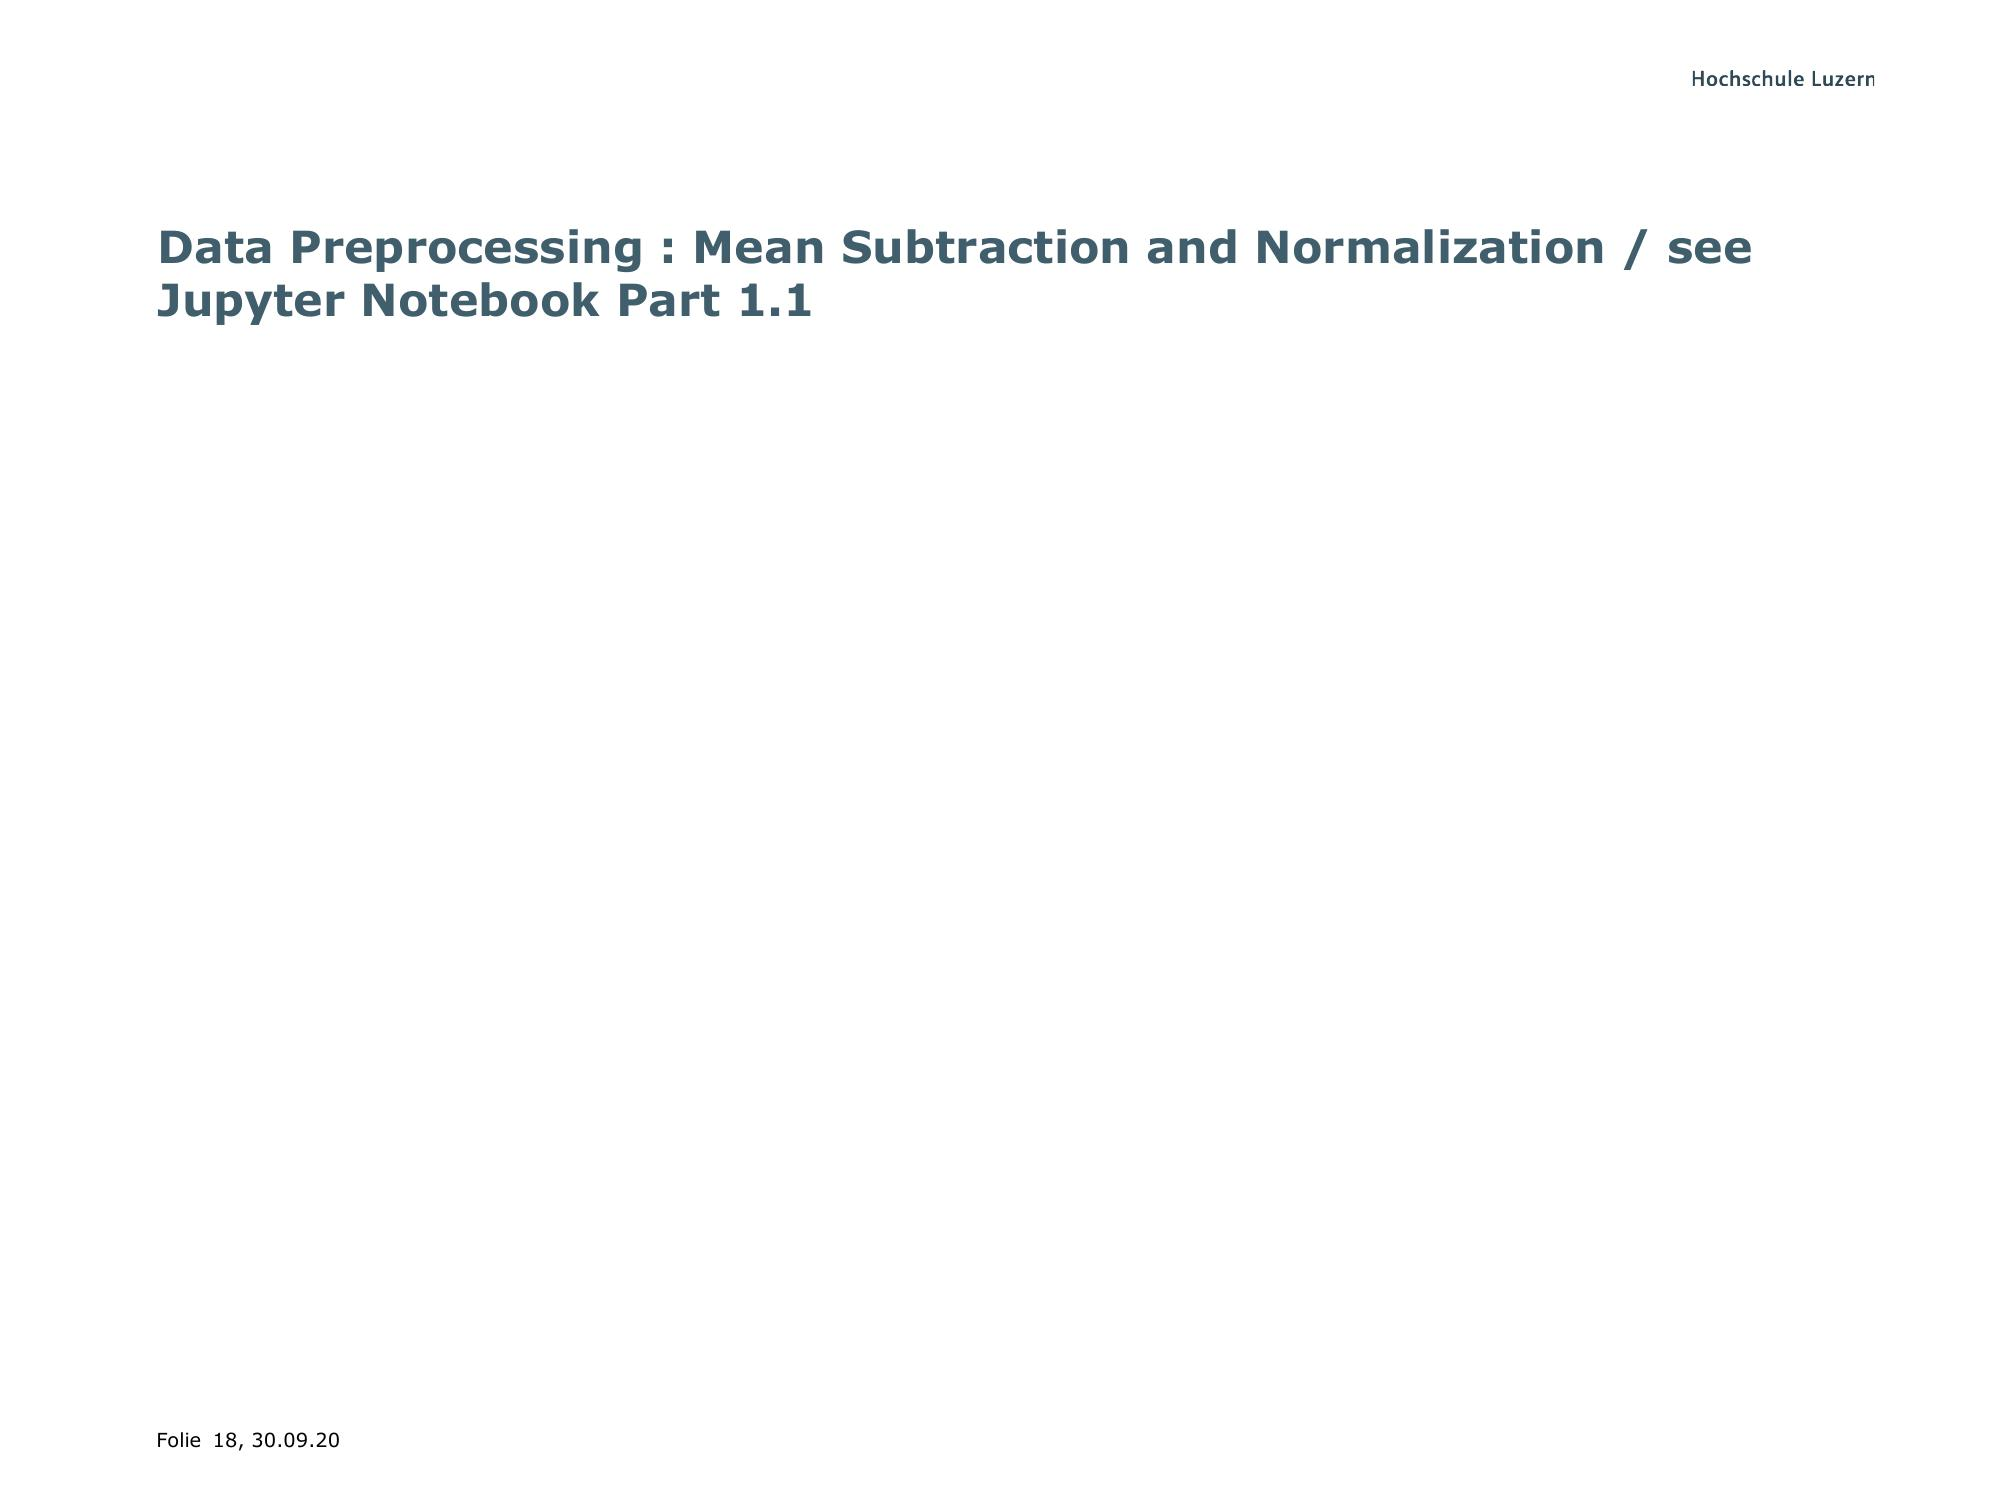Title: (117, 199, 1780, 339)
